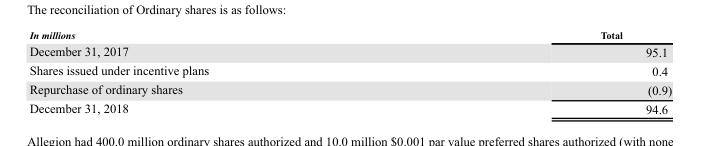table: (28, 28, 671, 115)
table column: (28, 28, 403, 115), (403, 28, 671, 115)
table column header: (28, 28, 671, 41)
table row: (28, 41, 671, 60), (28, 60, 671, 79), (28, 79, 671, 98), (28, 98, 671, 115), (28, 28, 671, 41)
